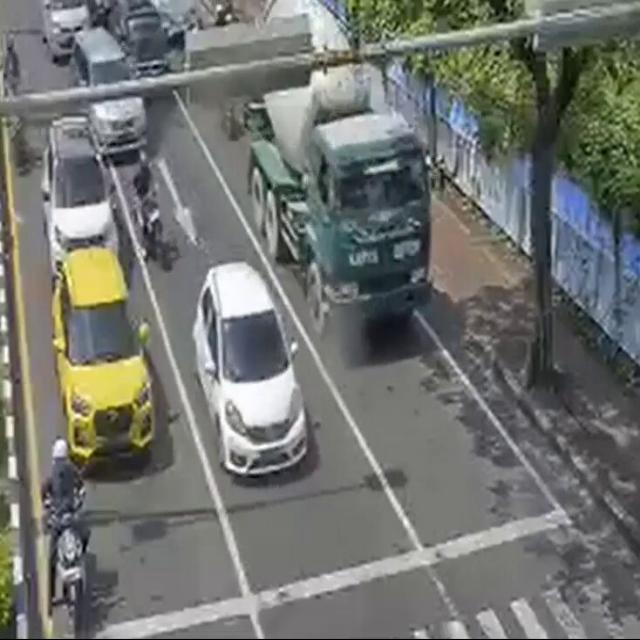car: (198, 263, 300, 500), (51, 268, 163, 461), (71, 27, 155, 165), (35, 130, 116, 254)
motorbike: (26, 438, 95, 612), (137, 162, 177, 256)
